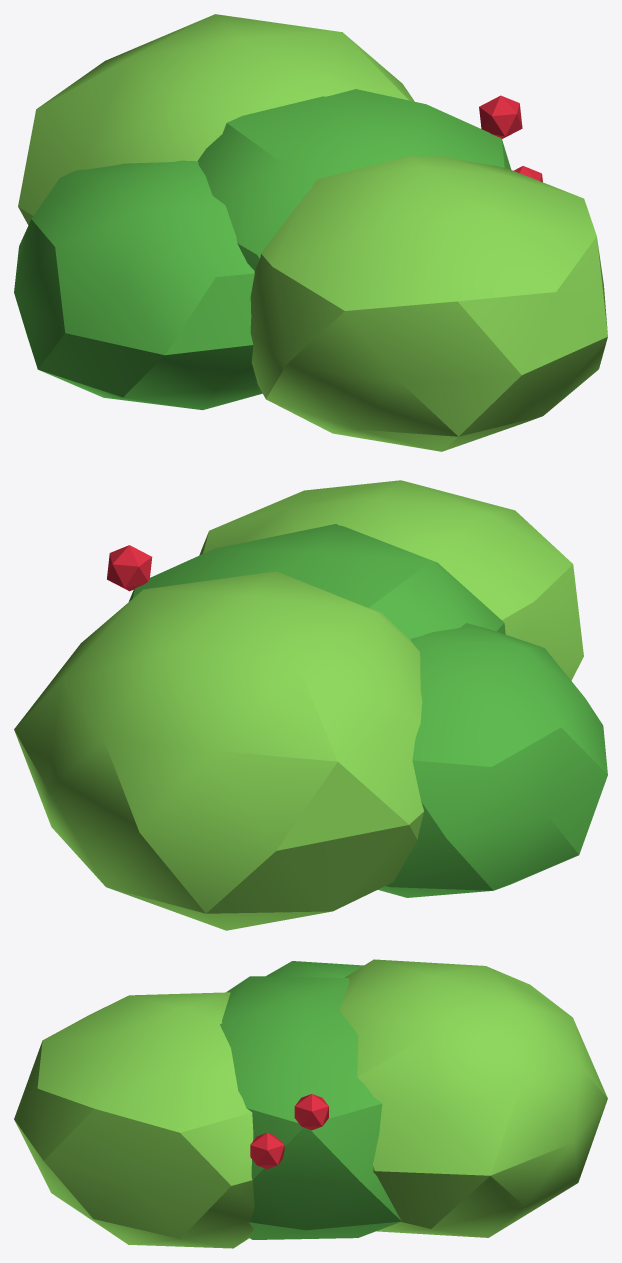
The model's file is Bush.fbx.
3 renders of one model, top to bottom at view 1: azimuth 30°, elevation 25°; view 2: azimuth 150°, elevation 25°; view 3: azimuth 270°, elevation 25°, orthographic. The views are drawn at different scales.
Parts seen in each view (by area): view 1: Bush_LeafLight, Bush_Leaf, Bush_Berry; view 2: Bush_LeafLight, Bush_Leaf, Bush_Berry; view 3: Bush_LeafLight, Bush_Leaf, Bush_Berry.
Part boxes in pixels (x1,y1,x2,y2): Bush_LeafLight: (18,14,607,451); Bush_Leaf: (14,89,511,410); Bush_Berry: (479,95,542,182); Bush_LeafLight: (14,480,583,930); Bush_Leaf: (129,524,607,897); Bush_Berry: (107,545,152,591); Bush_LeafLight: (14,959,607,1248); Bush_Leaf: (220,961,401,1239); Bush_Berry: (250,1094,328,1169).
Size of the model in its own units: 351 by 219 by 470.
